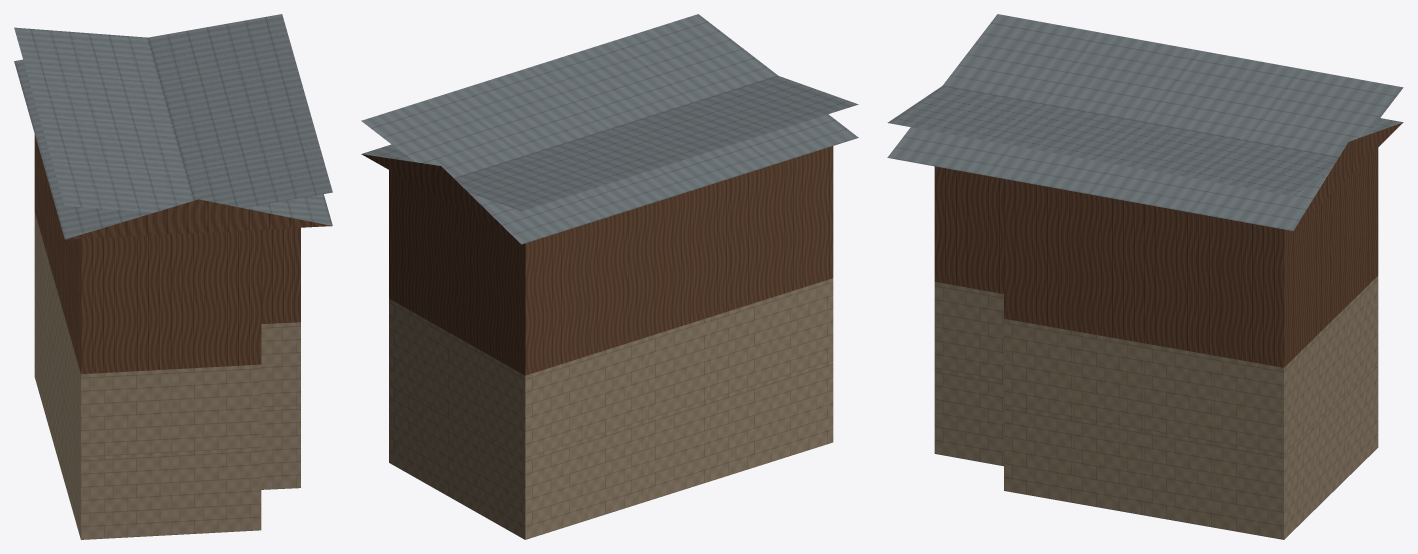
Rendered from bld_c4_20_456.gltf.
3 views of the same model, side by side, from view 1: azimuth 30°, elevation 25°; view 2: azimuth 150°, elevation 25°; view 3: azimuth 270°, elevation 25° (orthographic). The views are drawn at different scales.
Visible parts, largest first — view 1: bld_c4_20_456; view 2: bld_c4_20_456; view 3: bld_c4_20_456.
Boxes of the visible parts, x1,y1,x2,y2 form: bld_c4_20_456: (14,14,332,539); bld_c4_20_456: (361,14,858,539); bld_c4_20_456: (887,14,1403,539).
Bounding box in the file's own units: 11.22 × 10.2 × 13.42.
4 materials, 4 textured.
